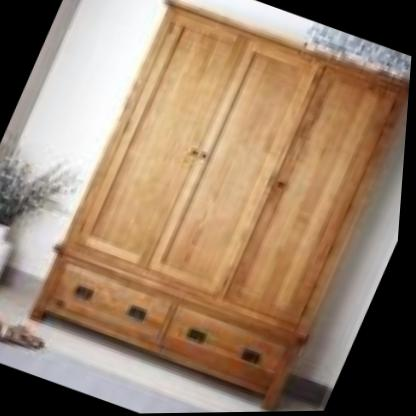Closet: (15, 0, 416, 416)
